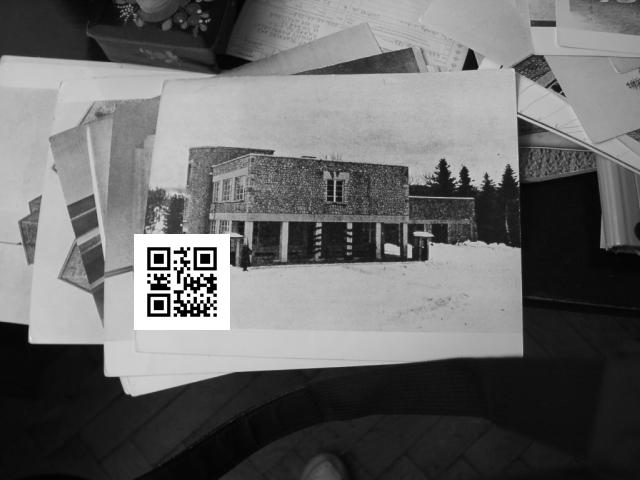qr_code: (135, 235, 229, 329)
